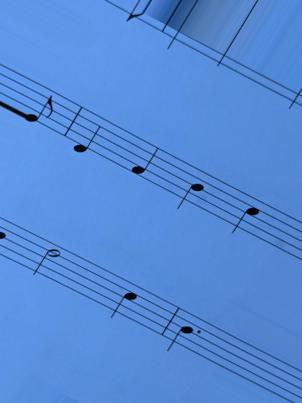note: (162, 293, 196, 363), (71, 91, 102, 161), (128, 126, 160, 193), (228, 181, 260, 246), (106, 267, 138, 330), (176, 152, 205, 217)
